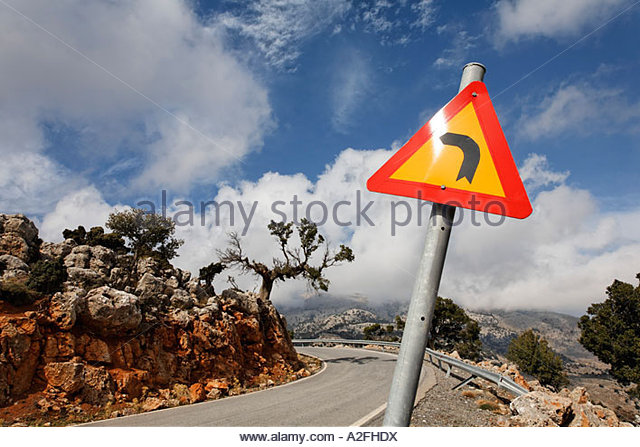Bend_to_left: (363, 79, 533, 222)
